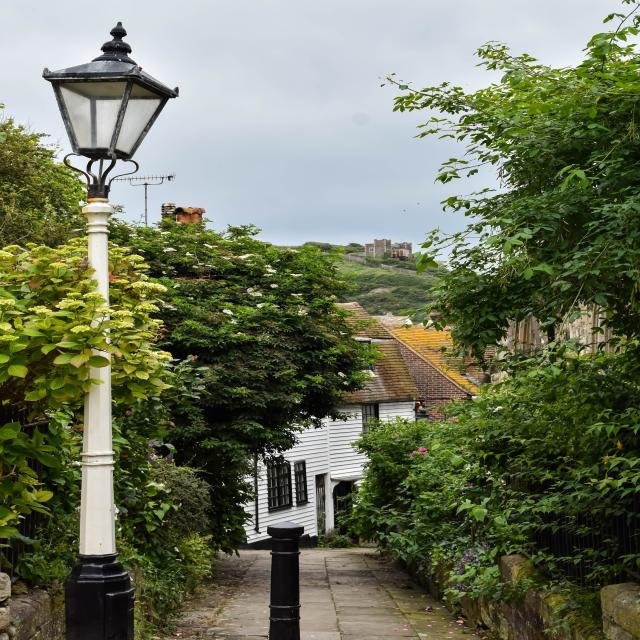Street Light: (43, 22, 184, 640)
